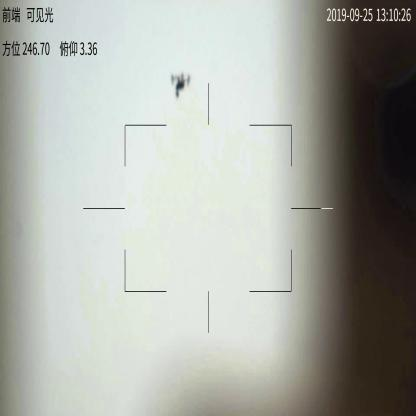uav: (169, 72, 192, 100)
